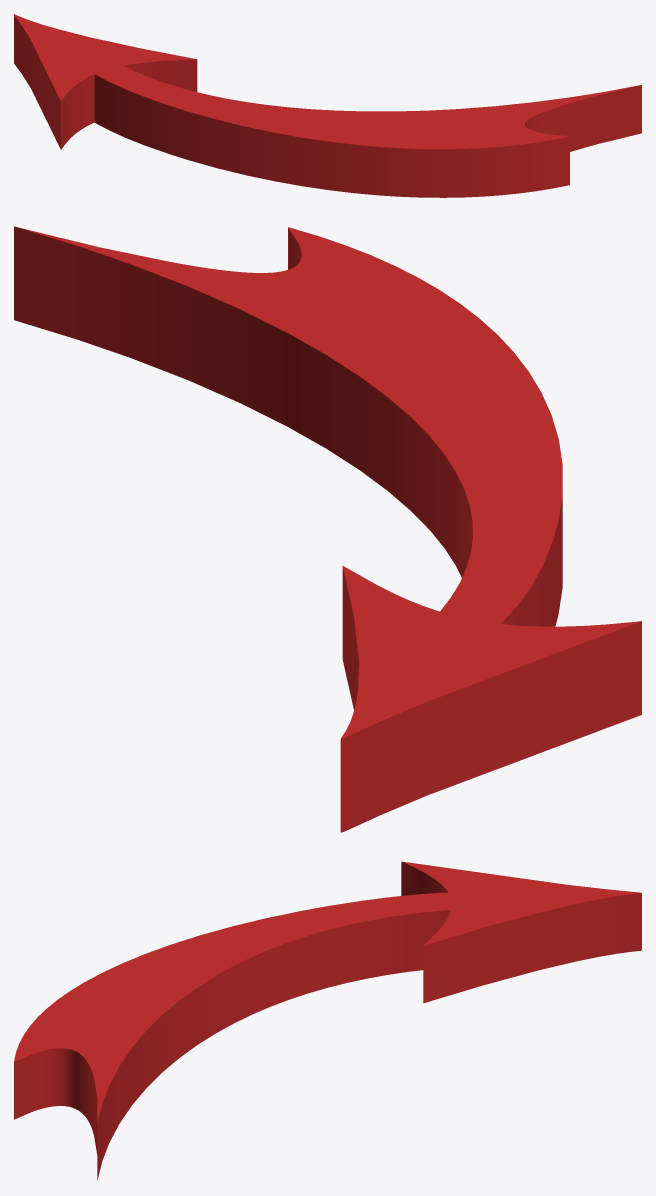
Rendered from Pijl klein.glb.
3 views of the same model, one above another, from view 1: azimuth 30°, elevation 25°; view 2: azimuth 150°, elevation 25°; view 3: azimuth 270°, elevation 25° (orthographic). The views are drawn at different scales.
Size of the model in its own units: 0.0293 by 0.003 by 0.0296.
